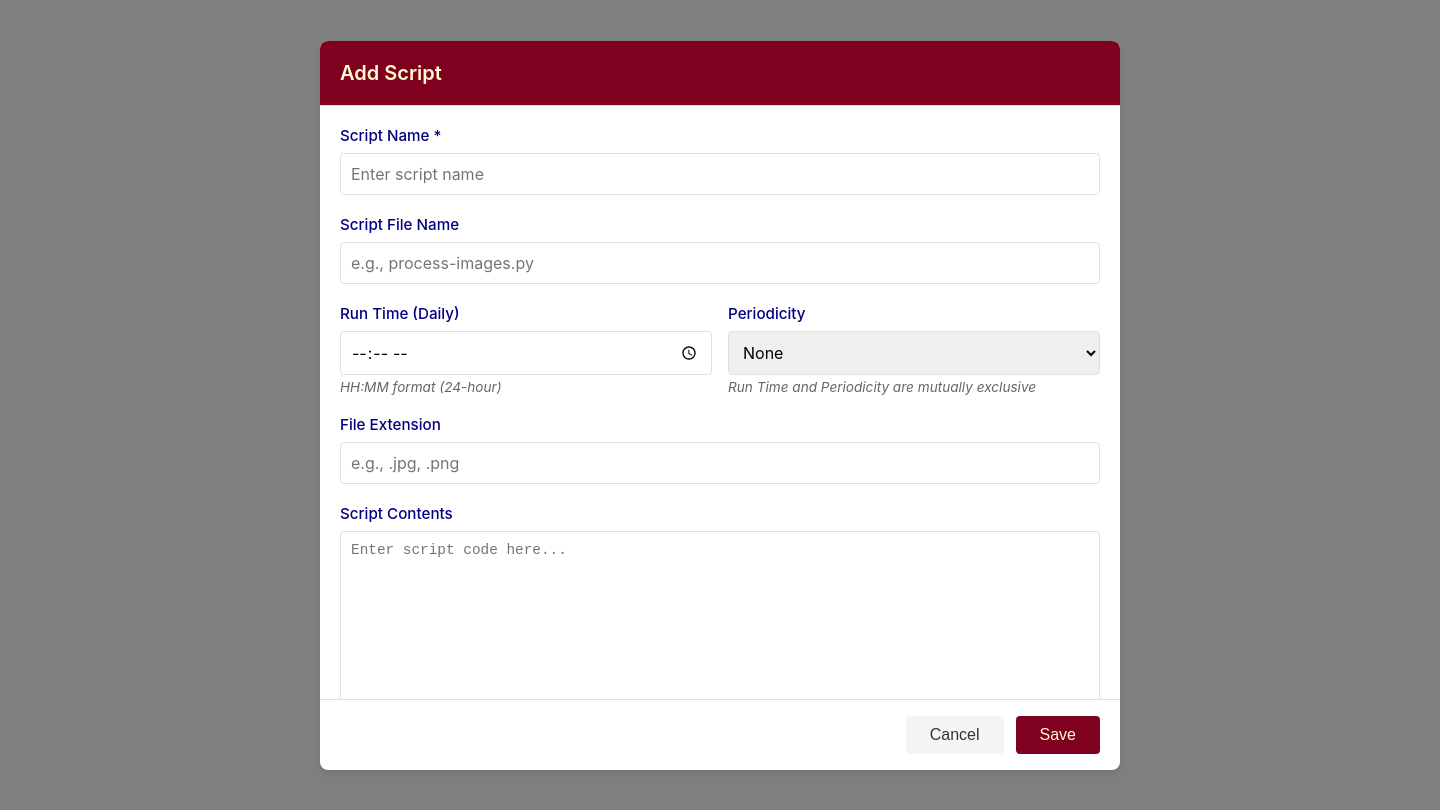
EditScriptDialog Component › validation prevents saving with empty script name
// Try to save without script name
Click the button with test id "save-button". click: coordinates (1058, 734)
box: [1016, 716, 1100, 754]
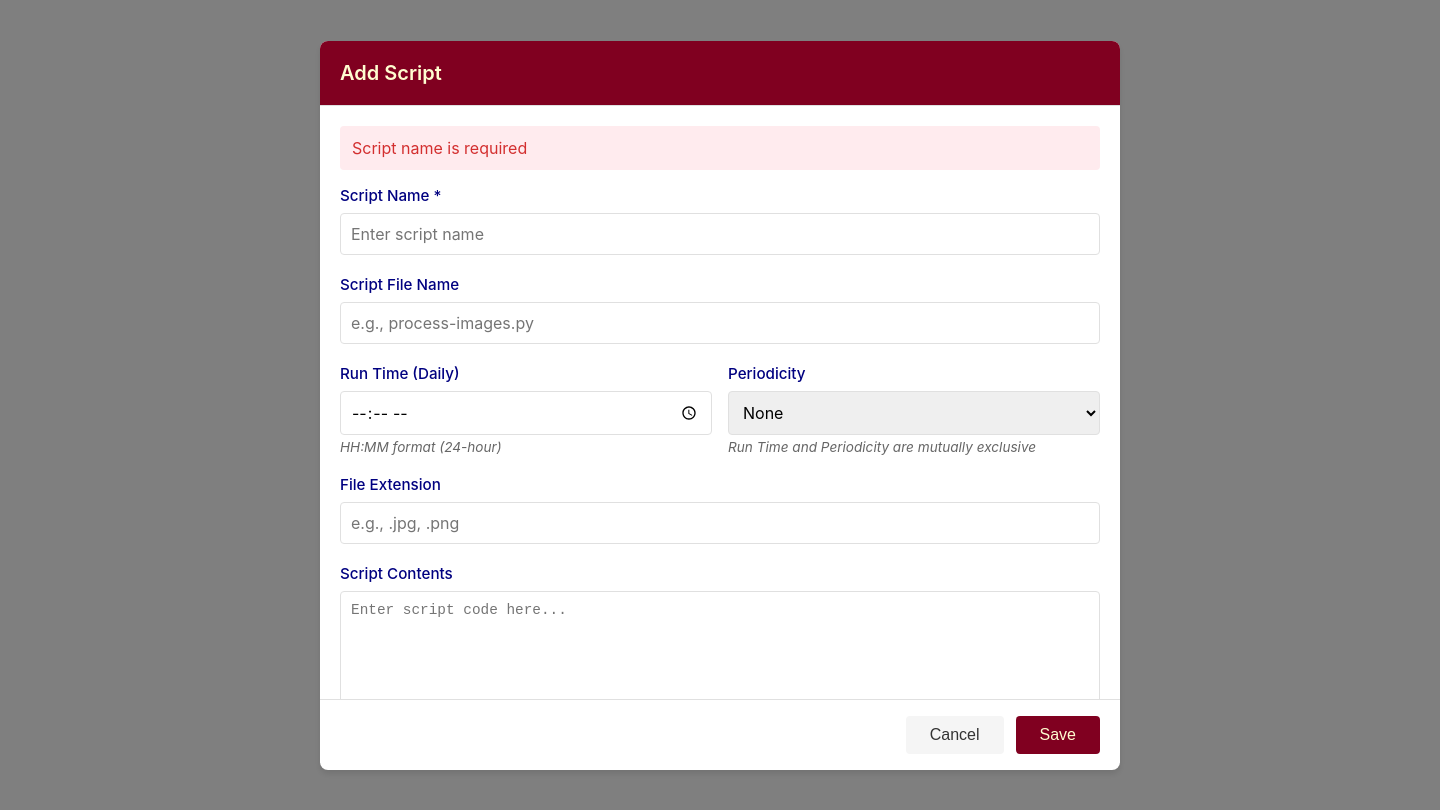
Now the text "Script name is required" is shown, box [340, 126, 1100, 170]
